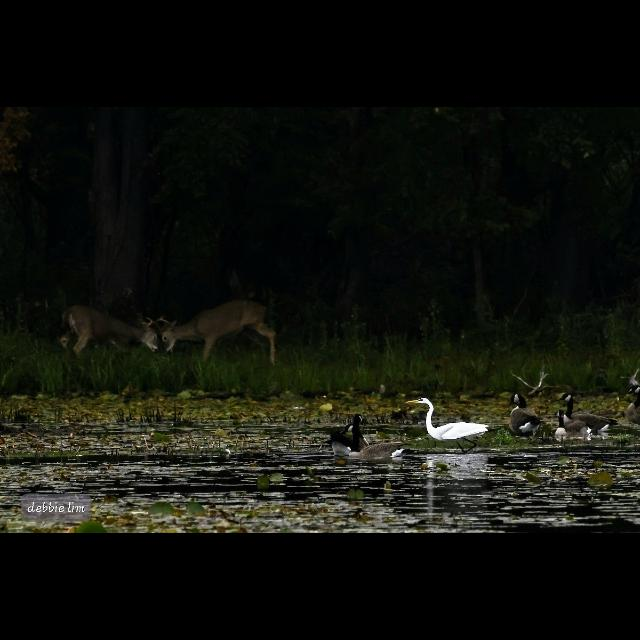egret: (398, 388, 502, 448)
